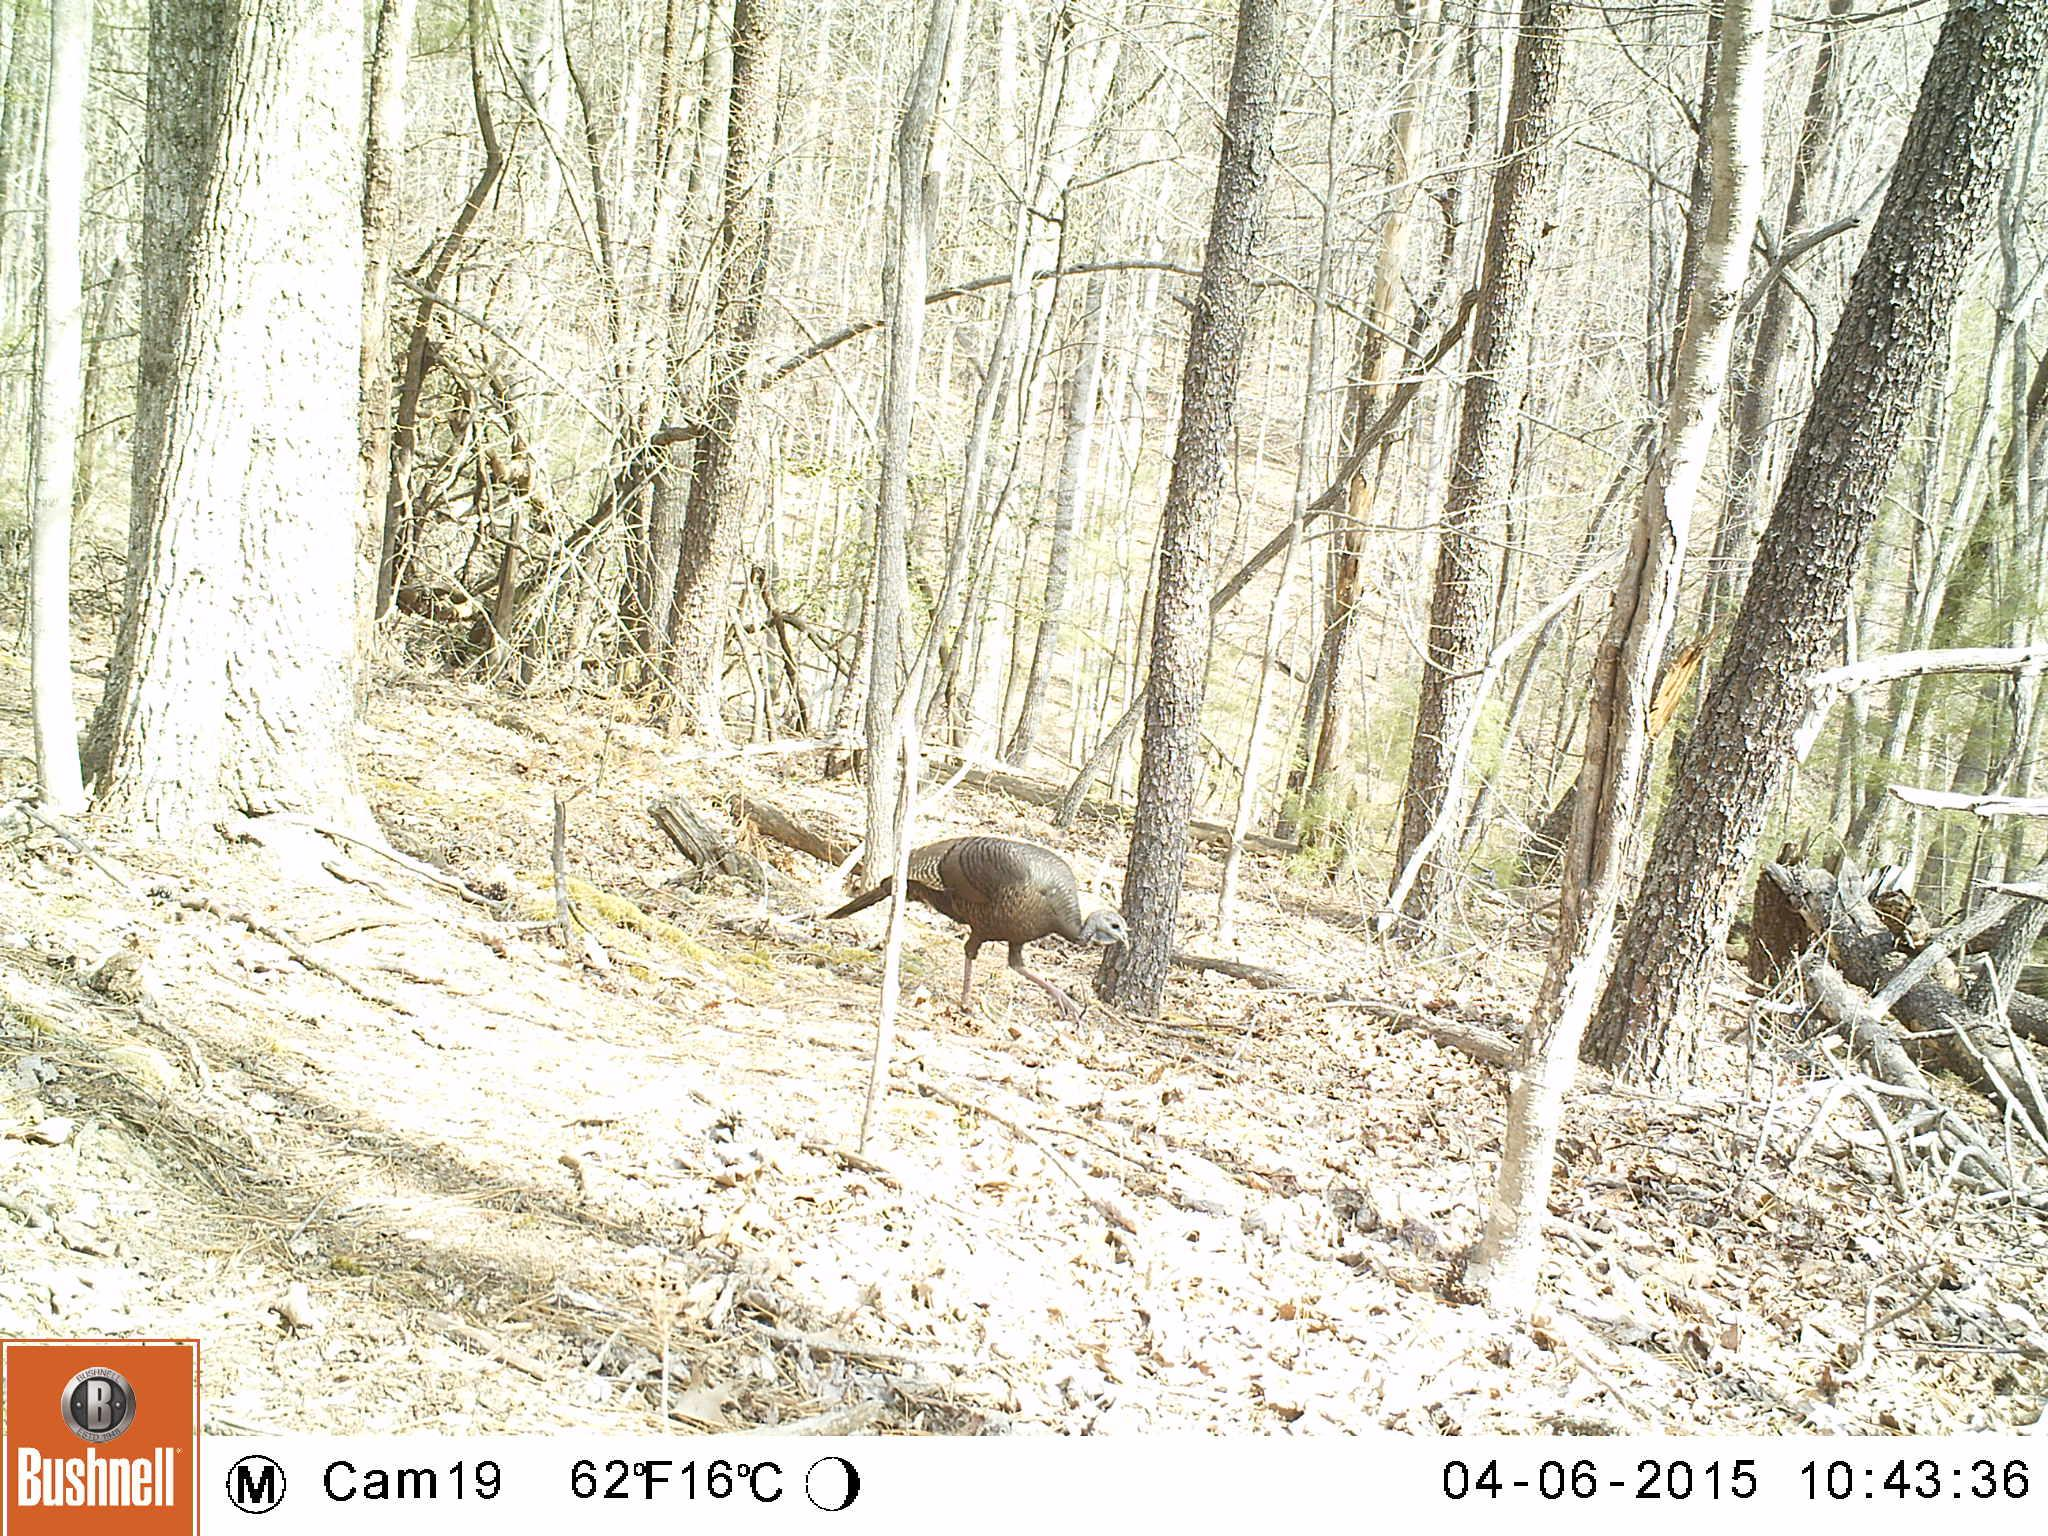Animal: (834, 833, 1130, 1012)
